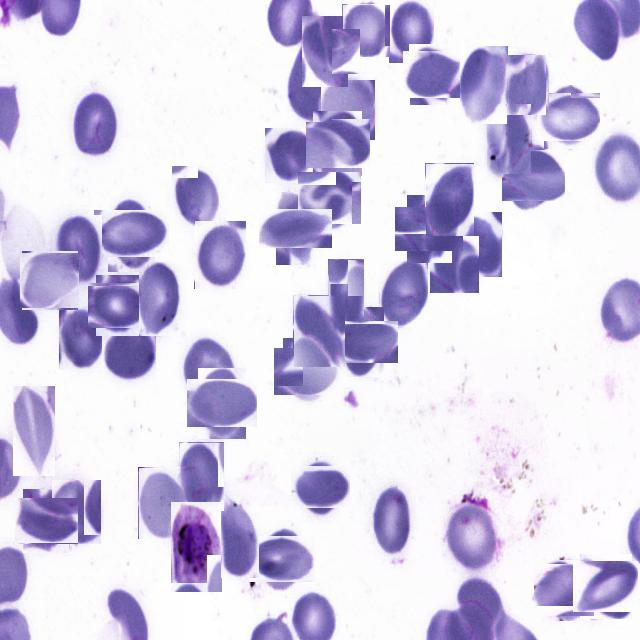red blood cell: (288, 16, 332, 122), (100, 203, 162, 264), (13, 386, 55, 476), (460, 46, 508, 124), (293, 295, 345, 367), (192, 374, 252, 434), (194, 220, 246, 289), (425, 163, 474, 236), (576, 557, 636, 616), (138, 467, 186, 539), (72, 86, 119, 159), (447, 505, 496, 574), (278, 342, 336, 400), (300, 169, 358, 227), (505, 146, 563, 204), (21, 252, 79, 309), (296, 23, 354, 80), (51, 479, 101, 544), (309, 115, 366, 172), (321, 80, 375, 140), (254, 531, 311, 587), (536, 562, 592, 619), (183, 339, 236, 399), (172, 166, 220, 232), (380, 261, 428, 327), (540, 89, 596, 145), (402, 201, 458, 257), (335, 314, 391, 370), (268, 200, 324, 256), (179, 442, 224, 511), (488, 104, 532, 174), (57, 215, 102, 283), (139, 262, 180, 336), (19, 494, 74, 548), (221, 500, 259, 578), (59, 306, 105, 370), (407, 48, 461, 102), (92, 278, 146, 332), (390, 0, 436, 63), (458, 212, 502, 277), (102, 329, 156, 381), (504, 54, 550, 115), (430, 236, 479, 293), (264, 127, 312, 183), (295, 461, 346, 512), (328, 259, 364, 331), (342, 4, 390, 57), (374, 487, 411, 553)
trophozoite: (170, 501, 222, 592)
